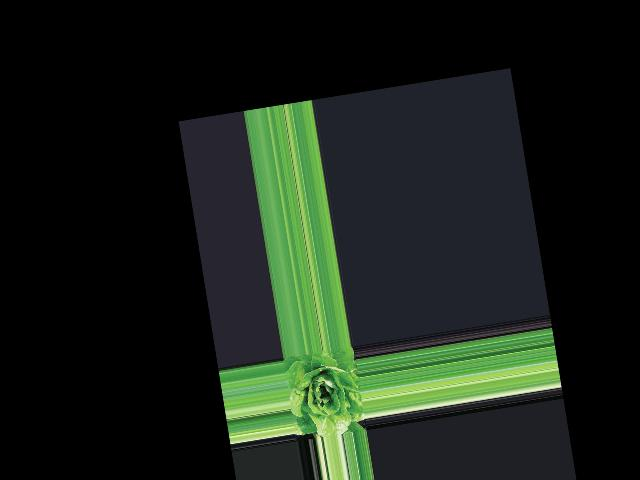lettuce: (285, 347, 367, 437)
